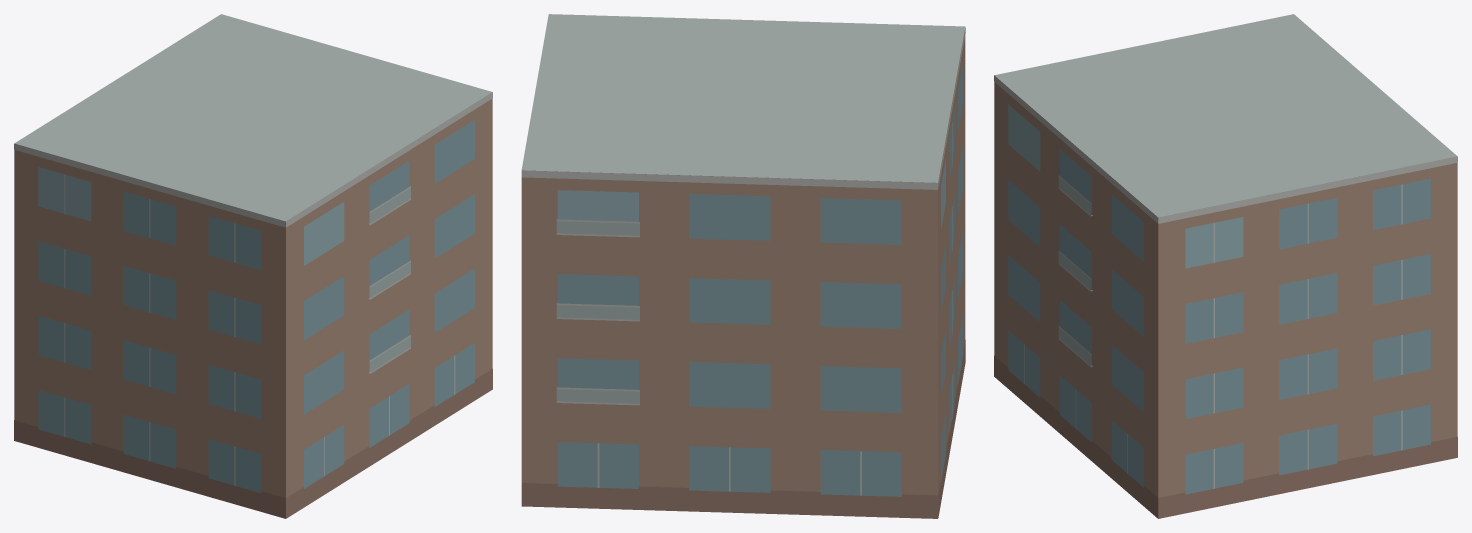
File: survey-upis-32780520.glb
3 views of the same model, side by side, from view 1: azimuth 30°, elevation 25°; view 2: azimuth 150°, elevation 25°; view 3: azimuth 270°, elevation 25° (orthographic). The views are drawn at different scales.
Visible parts, largest first — view 1: survey-upis-32780520.tmp; view 2: survey-upis-32780520.tmp; view 3: survey-upis-32780520.tmp.
Part boxes in pixels (box(x1,y1,x2,y2)): survey-upis-32780520.tmp: box(14, 14, 492, 518); survey-upis-32780520.tmp: box(521, 14, 965, 518); survey-upis-32780520.tmp: box(994, 14, 1457, 518).
Size of the model in its own units: 16.81 by 11.6 by 16.18.
